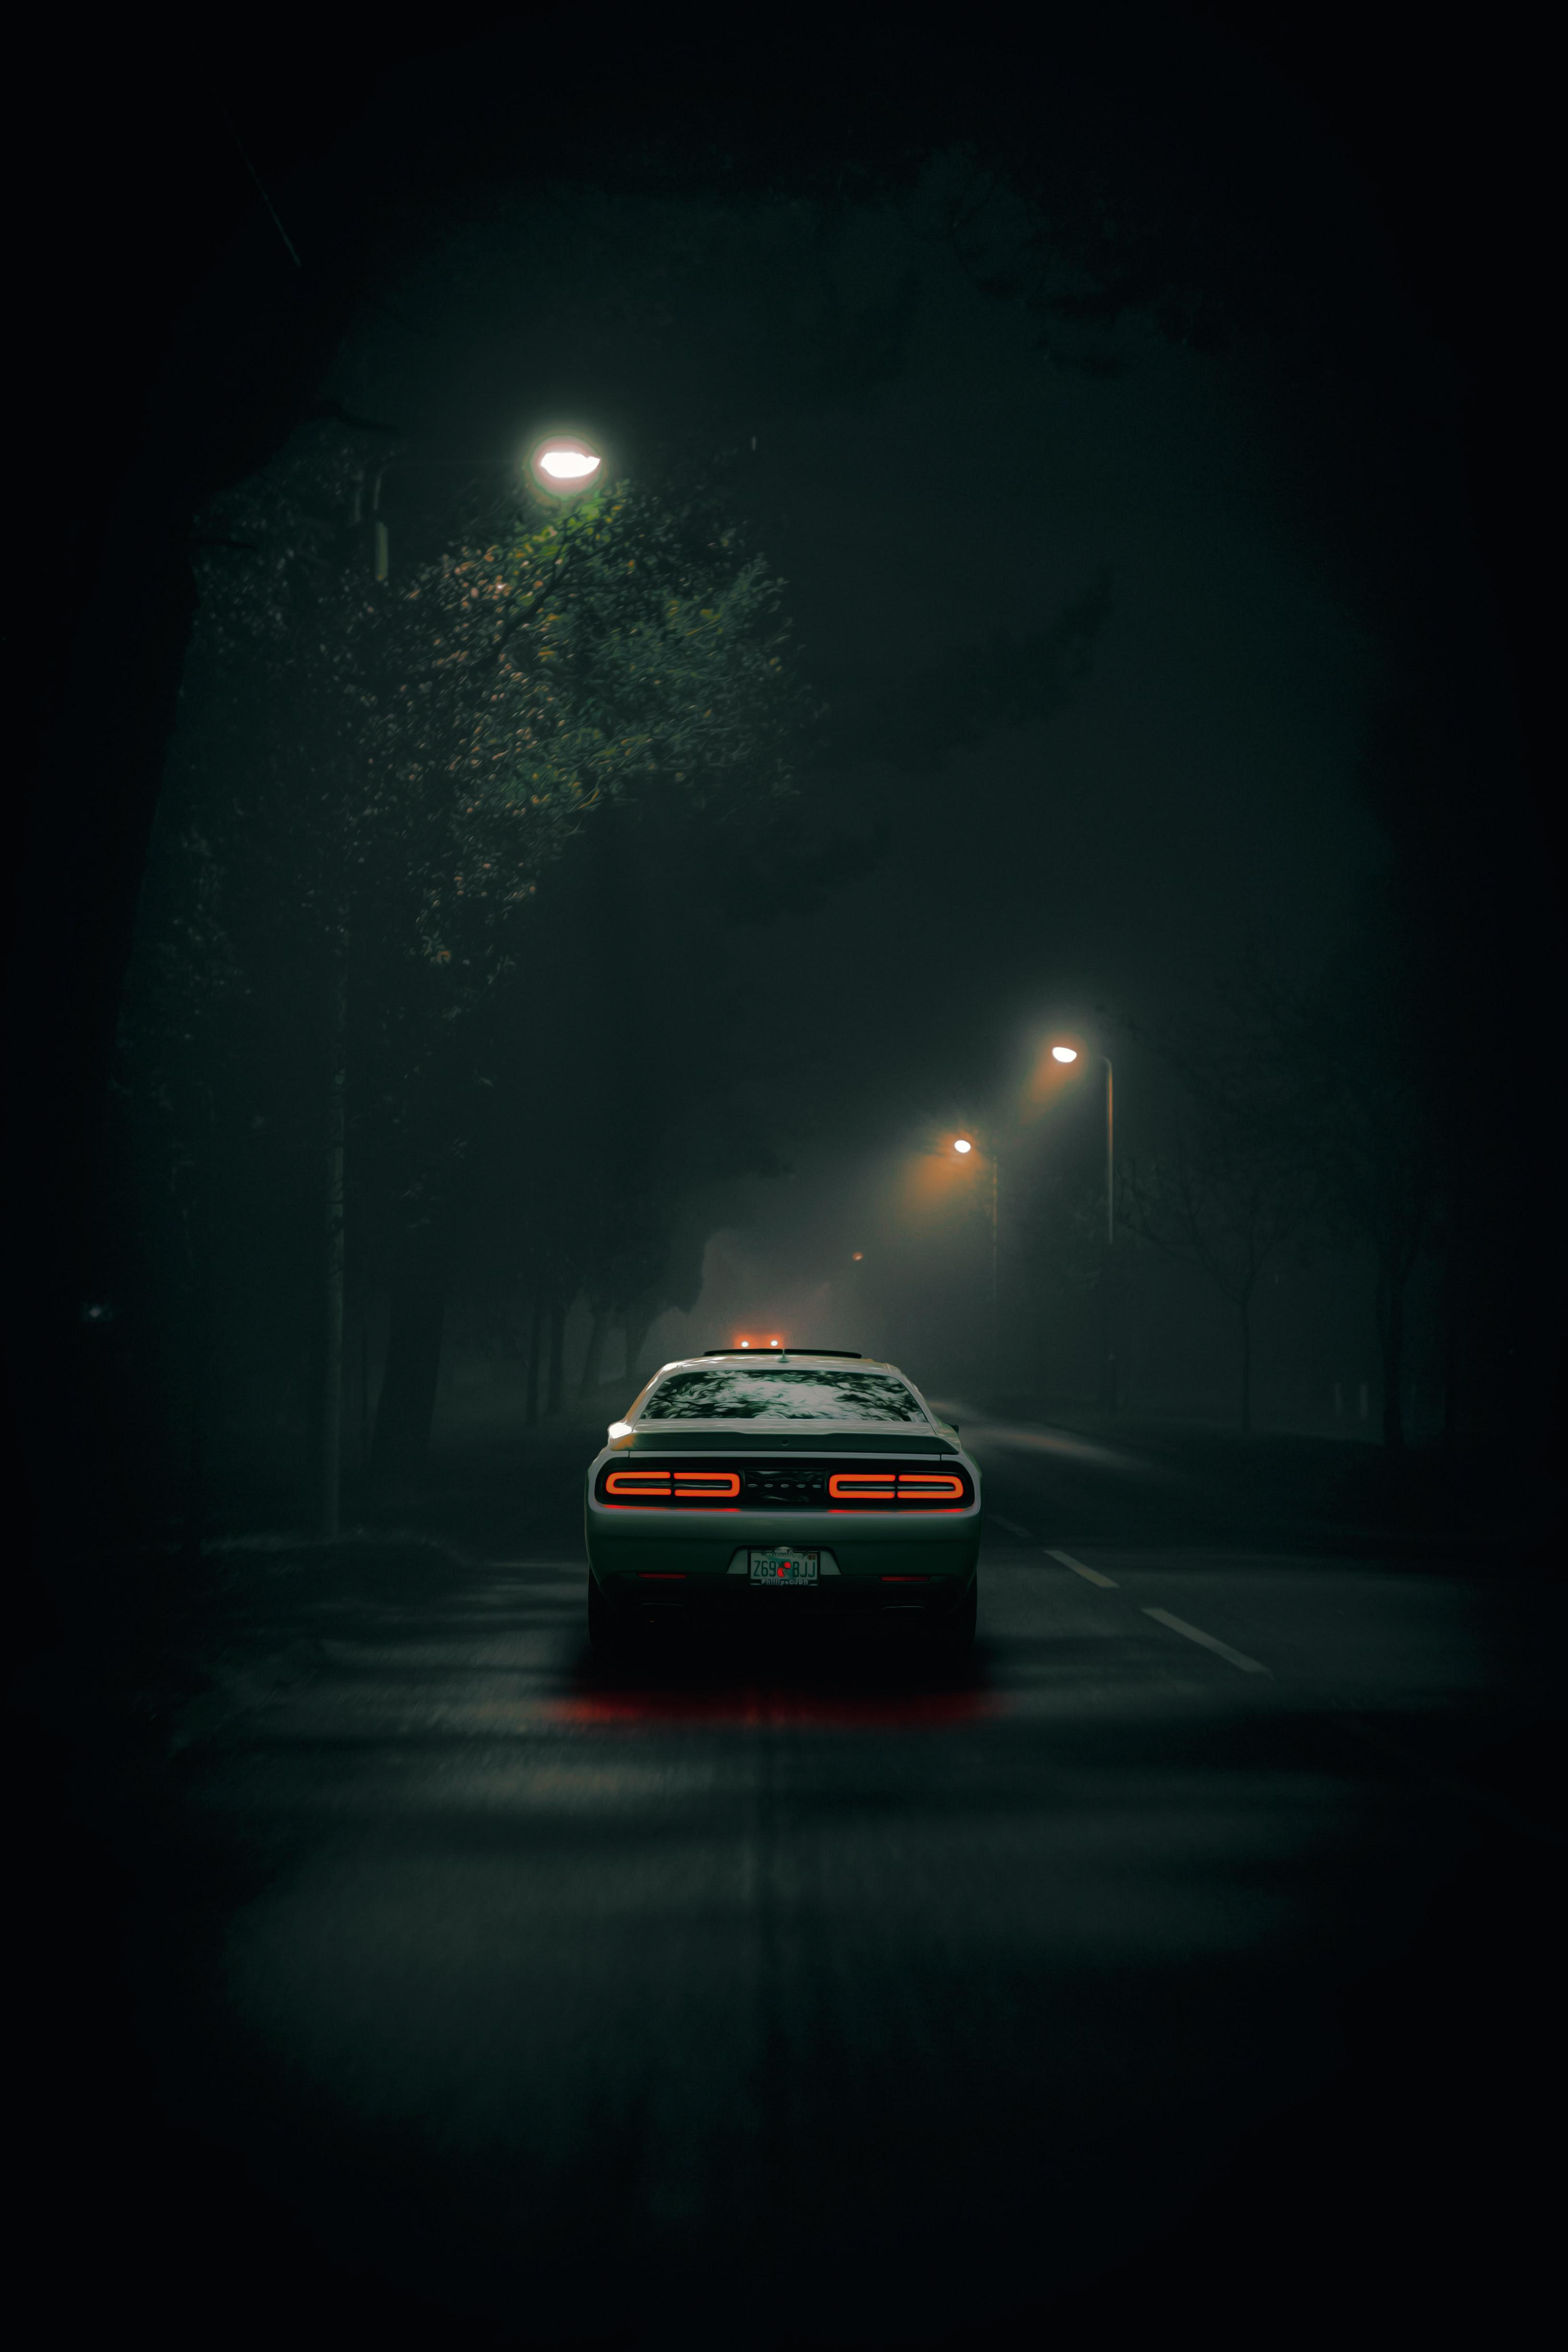dodge: (735, 1472, 833, 1498)
